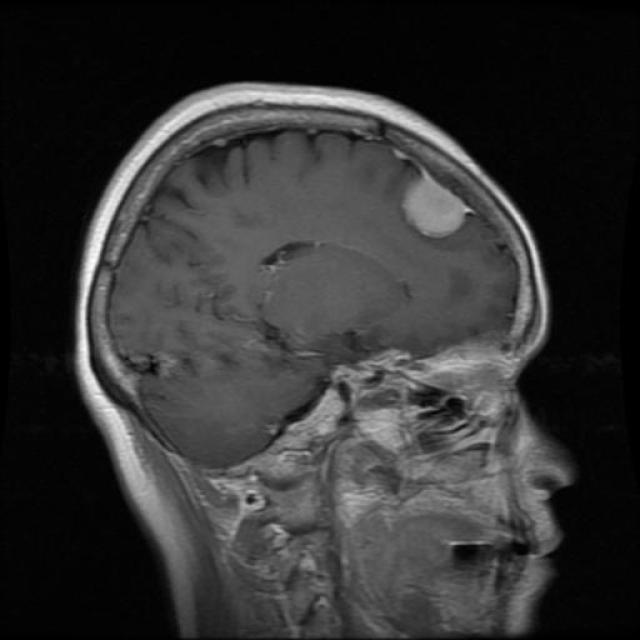meningioma: (401, 171, 475, 240)
